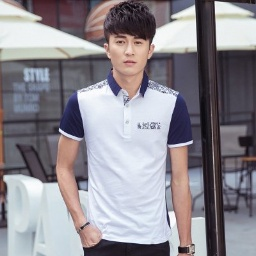face: (104, 1, 156, 75)
